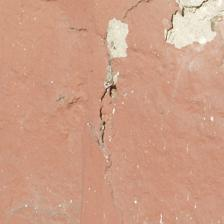Crack: (44, 7, 102, 164)
